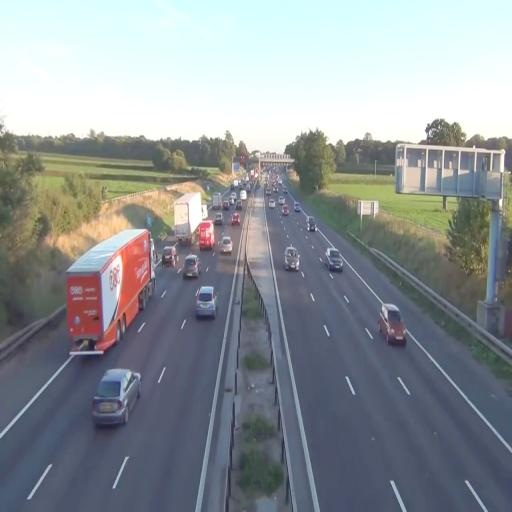vehicle: (66, 227, 154, 357), (65, 229, 154, 356), (92, 367, 142, 428), (174, 190, 204, 242), (378, 303, 407, 346), (195, 284, 217, 320), (197, 220, 215, 251), (325, 246, 344, 272), (182, 254, 200, 279), (284, 245, 301, 271), (219, 233, 233, 254), (162, 245, 176, 266), (231, 210, 242, 226), (307, 220, 315, 231)
